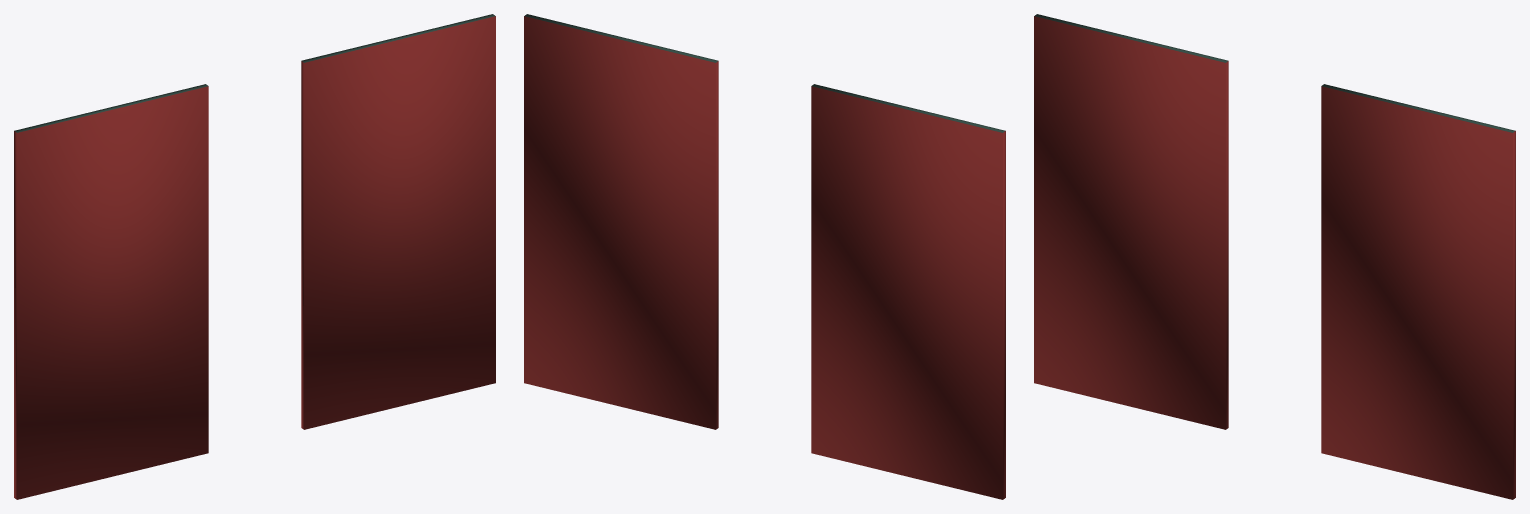
3 renders of one model, left to right at view 1: azimuth 30°, elevation 25°; view 2: azimuth 150°, elevation 25°; view 3: azimuth 330°, elevation 25°, orthographic.
Visible parts, largest first — view 1: color.011; view 2: color.011; view 3: color.011.
Boxes of the visible parts, x1,y1,x2,y2 form: color.011: (14,14,495,499); color.011: (524,14,1005,499); color.011: (1034,14,1515,499).
Bounding box in the file's own units: 0.5 × 0.3663 × 0.00533.
